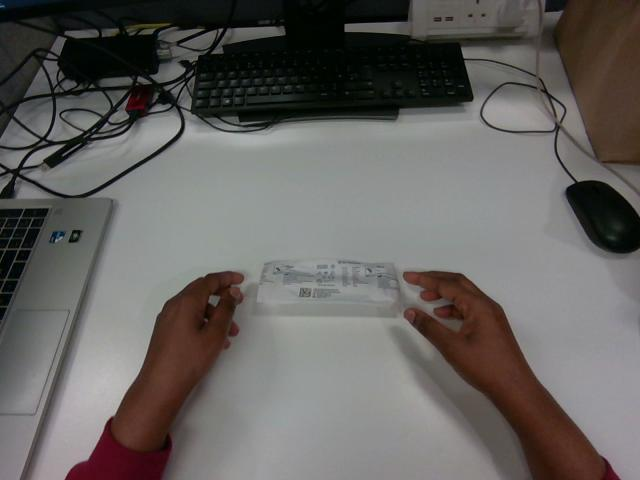syringe: (257, 259, 398, 305)
